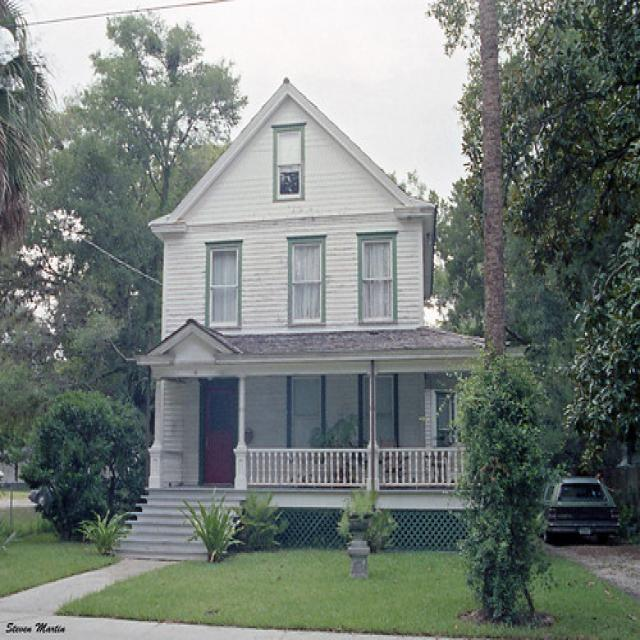Normal_building: (116, 72, 536, 568)
